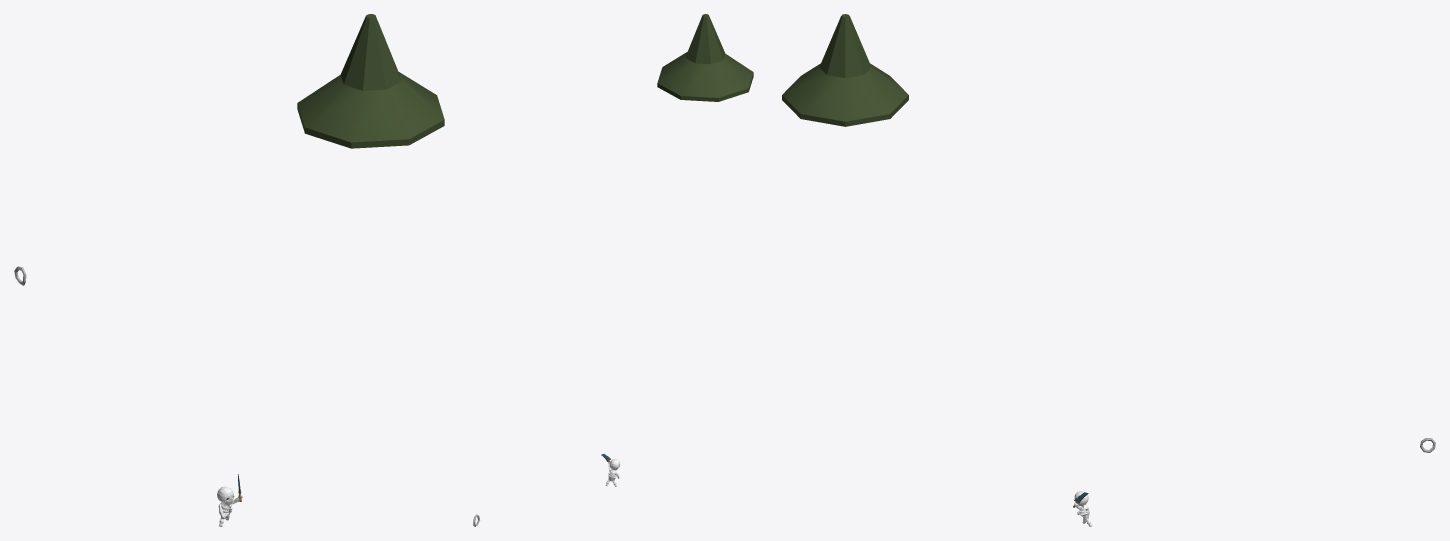
3 renders of one model, left to right at view 1: azimuth 30°, elevation 25°; view 2: azimuth 150°, elevation 25°; view 3: azimuth 270°, elevation 25°, orthographic. The views are drawn at different scales.
Visible parts, largest first — view 1: Cylinder1648_roof1_0; view 2: Cylinder1648_roof1_0; view 3: Cylinder1648_roof1_0.
Part boxes in pixels (bbox=[...]): Cylinder1648_roof1_0: bbox=[297, 14, 444, 148]; Cylinder1648_roof1_0: bbox=[657, 14, 753, 101]; Cylinder1648_roof1_0: bbox=[782, 14, 908, 126].
Size of the model in its own units: 572 by 2540 by 2948.
